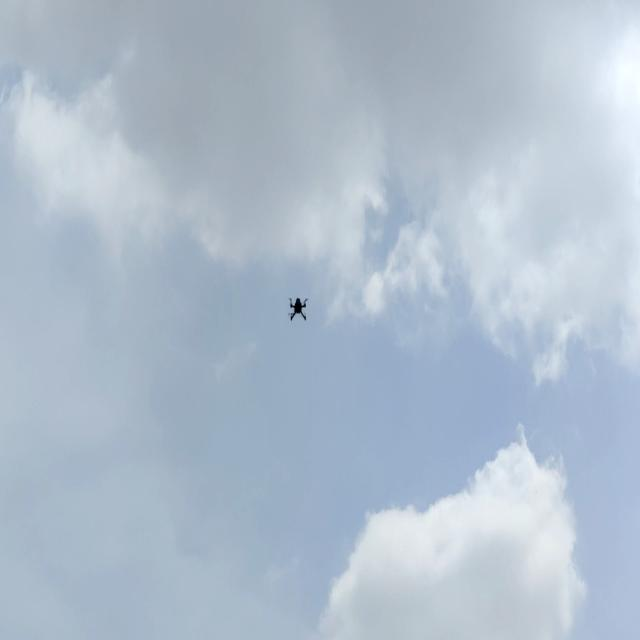drone: (285, 287, 311, 323)
